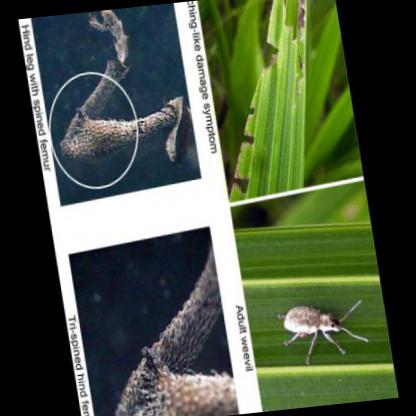ash weevil: (283, 304, 373, 351)
